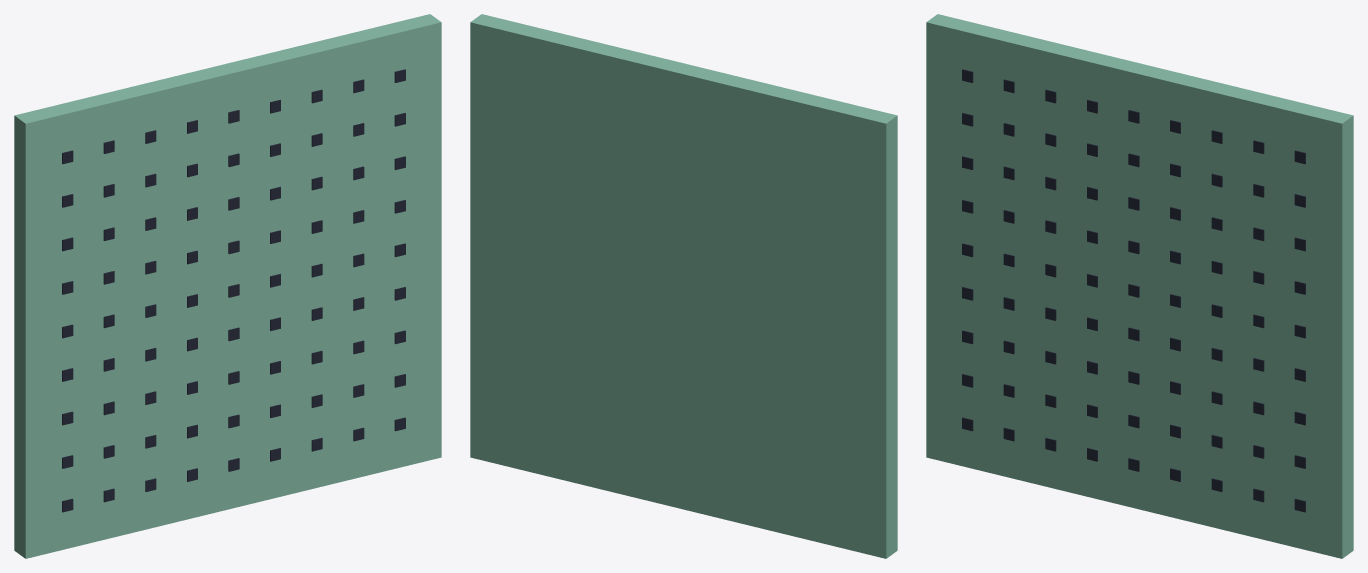
File: pegboard.glb
3 views of the same model, side by side, from view 1: azimuth 30°, elevation 25°; view 2: azimuth 150°, elevation 25°; view 3: azimuth 330°, elevation 25° (orthographic).
Visible parts, largest first — view 1: pegboard; view 2: pegboard; view 3: pegboard.
Part boxes in pixels (x1,y1,x2,y2): pegboard: (14,14,441,558); pegboard: (470,14,897,558); pegboard: (926,14,1353,558).
Bounding box in the file's own units: 60 × 60 × 3.
